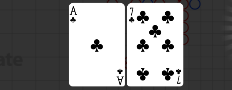7C: (174, 67, 182, 85)
AC: (115, 67, 124, 85)
